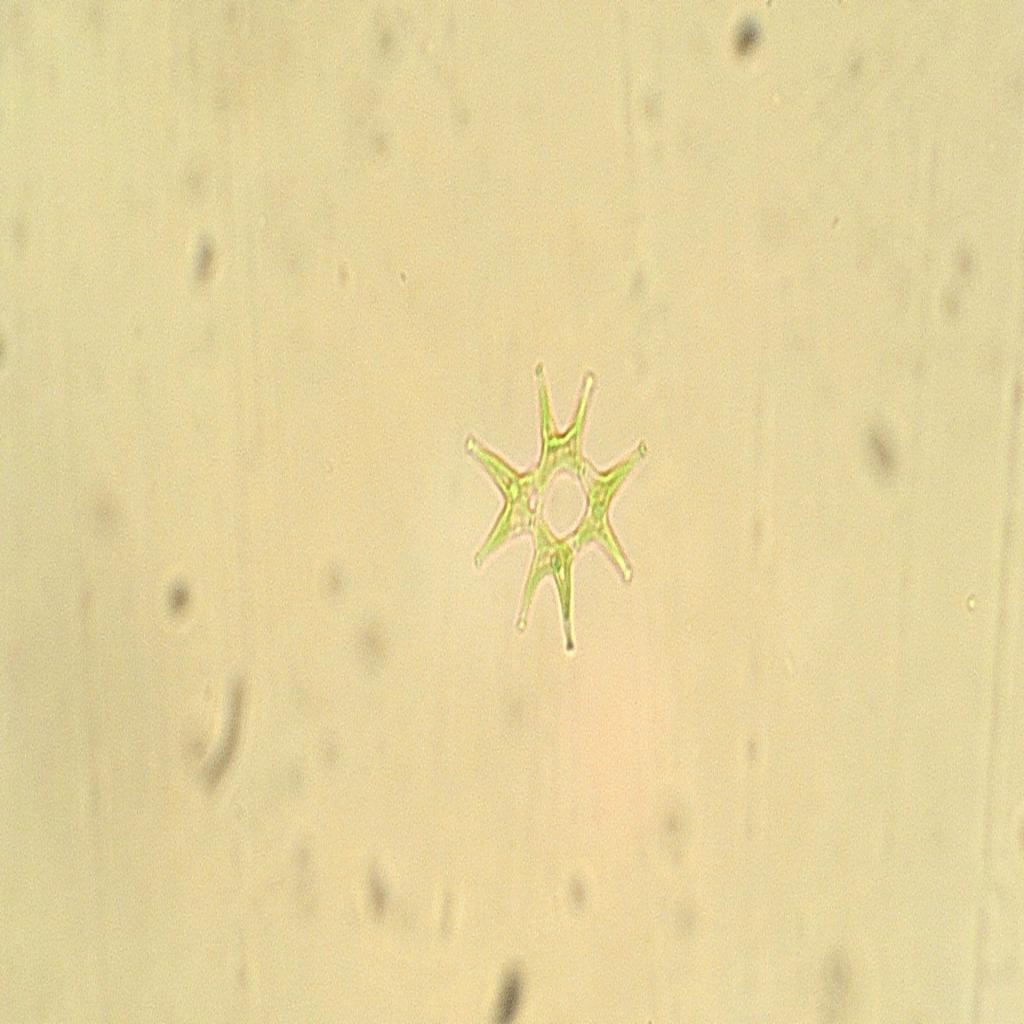Pediastrum_CT: (457, 339, 676, 682)
